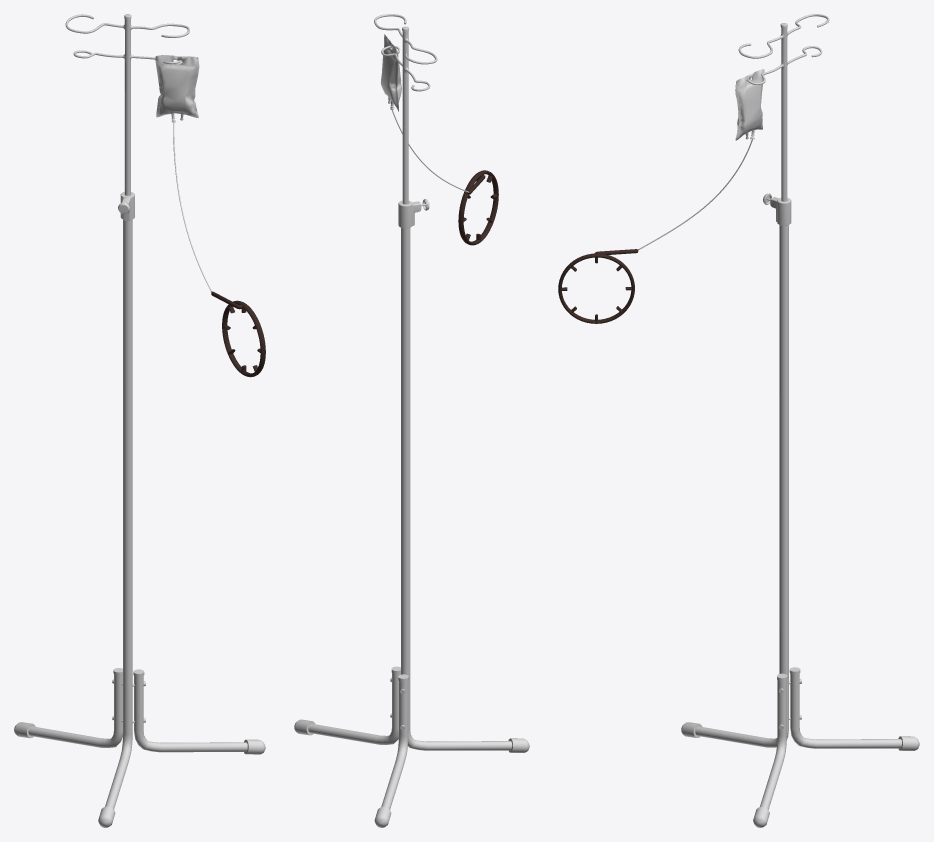
Rendered from WaterFall.fbx.
The picture shows the model from 3 angles, left to right: view 1: azimuth 30°, elevation 25°; view 2: azimuth 150°, elevation 25°; view 3: azimuth 270°, elevation 25°; orthographic projection. The views are drawn at different scales.
Parts seen in each view (by area): view 1: Dripper_Main, Dripper_Legs, SalineBag_Insides, BezierCurve.006; view 2: Dripper_Main, Dripper_Legs, BezierCurve.006, SalineBag_Insides; view 3: Dripper_Main, Dripper_Legs, SalineBag_Insides, BezierCurve.006.
Boxes of the visible parts, x1,y1,x2,y2 form: Dripper_Main: [65, 14, 189, 827]; Dripper_Legs: [14, 668, 265, 754]; SalineBag_Insides: [155, 55, 199, 122]; BezierCurve.006: [211, 291, 265, 377]; Dripper_Main: [374, 14, 529, 752]; Dripper_Legs: [294, 666, 408, 827]; BezierCurve.006: [458, 170, 498, 245]; SalineBag_Insides: [380, 34, 401, 111]; Dripper_Main: [681, 14, 829, 747]; Dripper_Legs: [753, 667, 919, 827]; SalineBag_Insides: [735, 69, 764, 140]; BezierCurve.006: [558, 249, 638, 323].
Bounding box in the file's own units: 34449 × 123640 × 54294.
